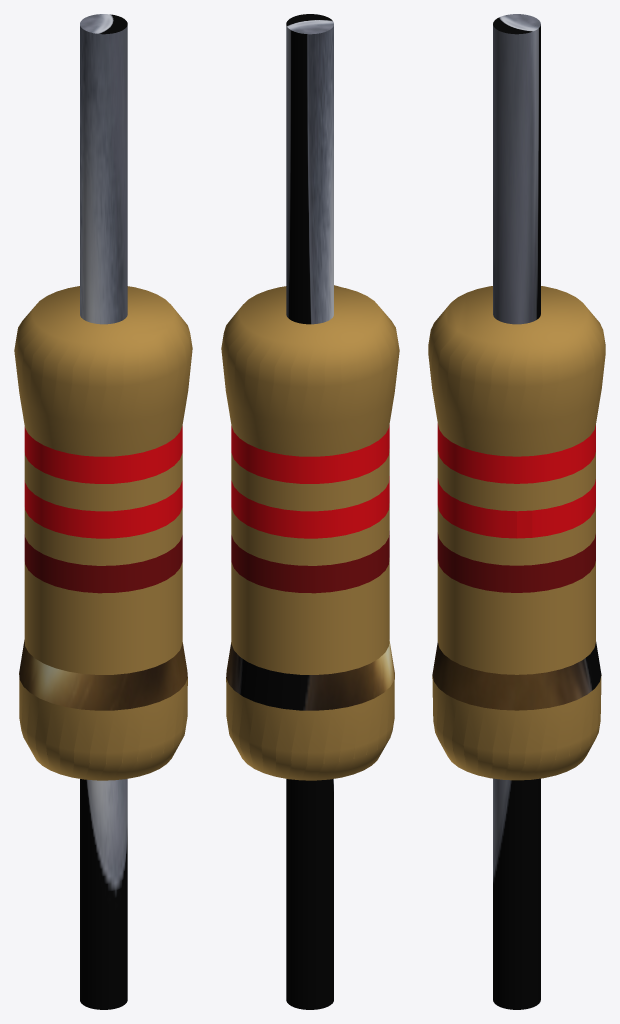
Rendered from resistor.glb.
The picture shows the model from 3 angles, left to right: view 1: azimuth 30°, elevation 25°; view 2: azimuth 150°, elevation 25°; view 3: azimuth 270°, elevation 25°; orthographic projection.
Visible parts, largest first — view 1: Cylinder_2, Cylinder.006_8, Cylinder.007_11, Cylinder.002_4, Cylinder.003_5, Cylinder.001_3; view 2: Cylinder_2, Cylinder.006_8, Cylinder.007_11, Cylinder.002_4, Cylinder.003_5, Cylinder.001_3; view 3: Cylinder_2, Cylinder.006_8, Cylinder.007_11, Cylinder.003_5, Cylinder.001_3, Cylinder.002_4, Cylinder.005_7.
Part boxes in pixels (box(x1,y1,x2,y2)): Cylinder_2: box(14, 286, 192, 780); Cylinder.006_8: box(80, 14, 127, 1009); Cylinder.007_11: box(19, 640, 187, 710); Cylinder.002_4: box(24, 480, 182, 538); Cylinder.003_5: box(24, 534, 182, 593); Cylinder.001_3: box(24, 426, 182, 483); Cylinder_2: box(221, 285, 399, 780); Cylinder.006_8: box(286, 14, 333, 1009); Cylinder.007_11: box(226, 640, 394, 710); Cylinder.002_4: box(231, 476, 389, 538); Cylinder.003_5: box(231, 531, 389, 593); Cylinder.001_3: box(231, 425, 389, 483); Cylinder_2: box(428, 286, 605, 780); Cylinder.006_8: box(493, 14, 540, 1009); Cylinder.007_11: box(432, 642, 601, 710); Cylinder.003_5: box(437, 532, 595, 592); Cylinder.001_3: box(437, 423, 595, 483); Cylinder.002_4: box(437, 478, 595, 538); Cylinder.005_7: box(517, 510, 532, 538).
Size of the model in its own units: 0.516 by 3.13 by 0.516.
5 materials, 2 textured.
